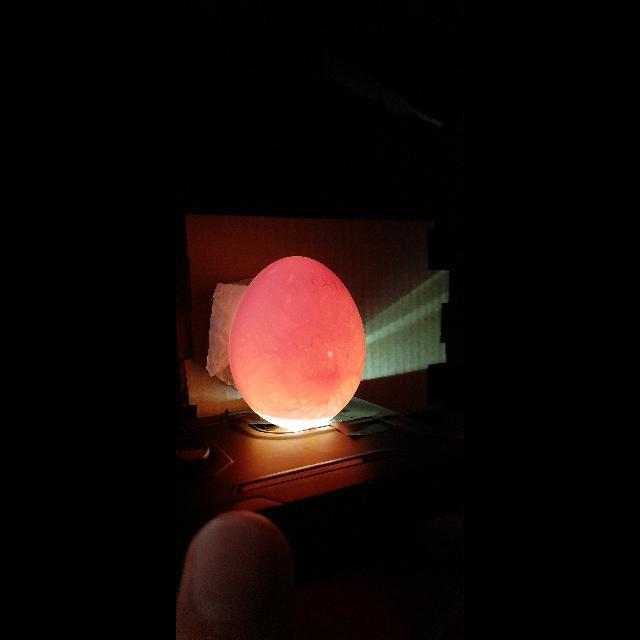Fertile: (227, 250, 373, 434)
